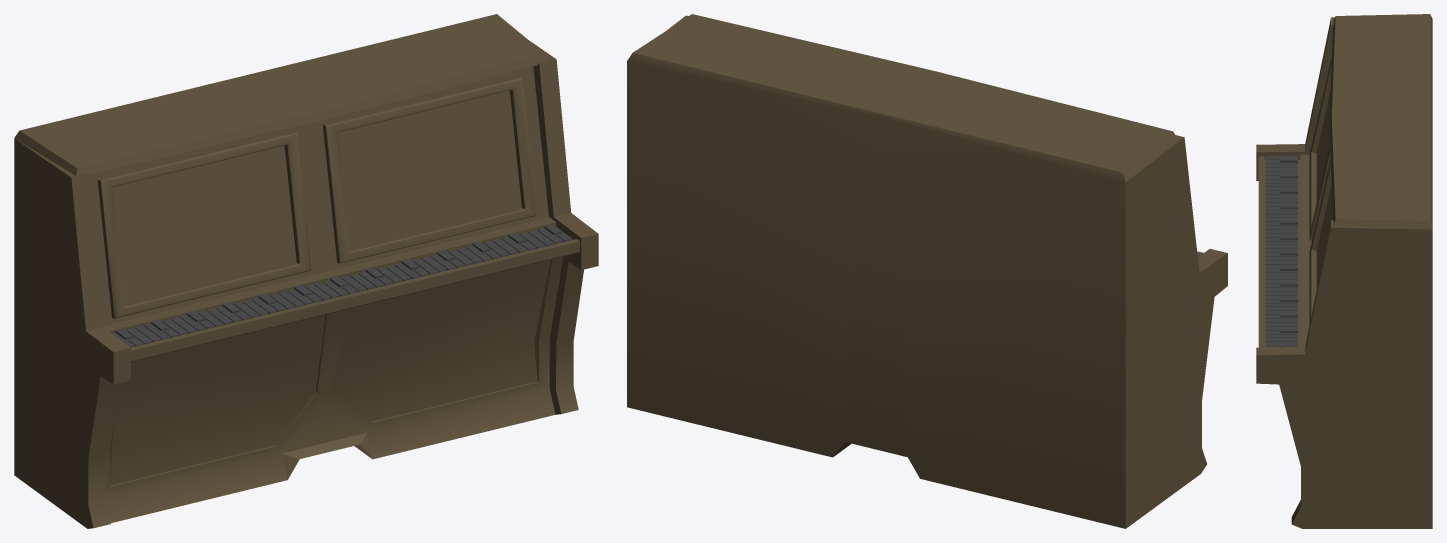
Rendered from BS_piano.fbx.
3 renders of one model, left to right at view 1: azimuth 30°, elevation 25°; view 2: azimuth 150°, elevation 25°; view 3: azimuth 270°, elevation 25°, orthographic. The views are drawn at different scales.
Parts seen in each view (by area): view 1: Cube.019; view 2: Cube.019; view 3: Cube.019.
Boxes of the visible parts, left/top/right/bottom form: Cube.019: left=14, top=14, right=598, bottom=528; Cube.019: left=627, top=14, right=1227, bottom=528; Cube.019: left=1256, top=14, right=1432, bottom=528.
Bounding box in the file's own units: 2.29 × 1.56 × 0.8127.
